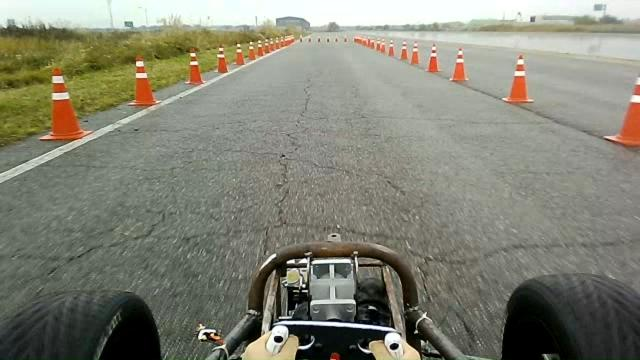red cone: (38, 66, 92, 141), (603, 76, 639, 147), (127, 55, 161, 106), (502, 54, 534, 103), (184, 47, 206, 85), (449, 47, 468, 82), (426, 43, 442, 72), (215, 44, 228, 73), (234, 42, 245, 65), (410, 41, 420, 65), (399, 40, 409, 61), (247, 40, 256, 60), (387, 39, 395, 57), (256, 39, 264, 56)
